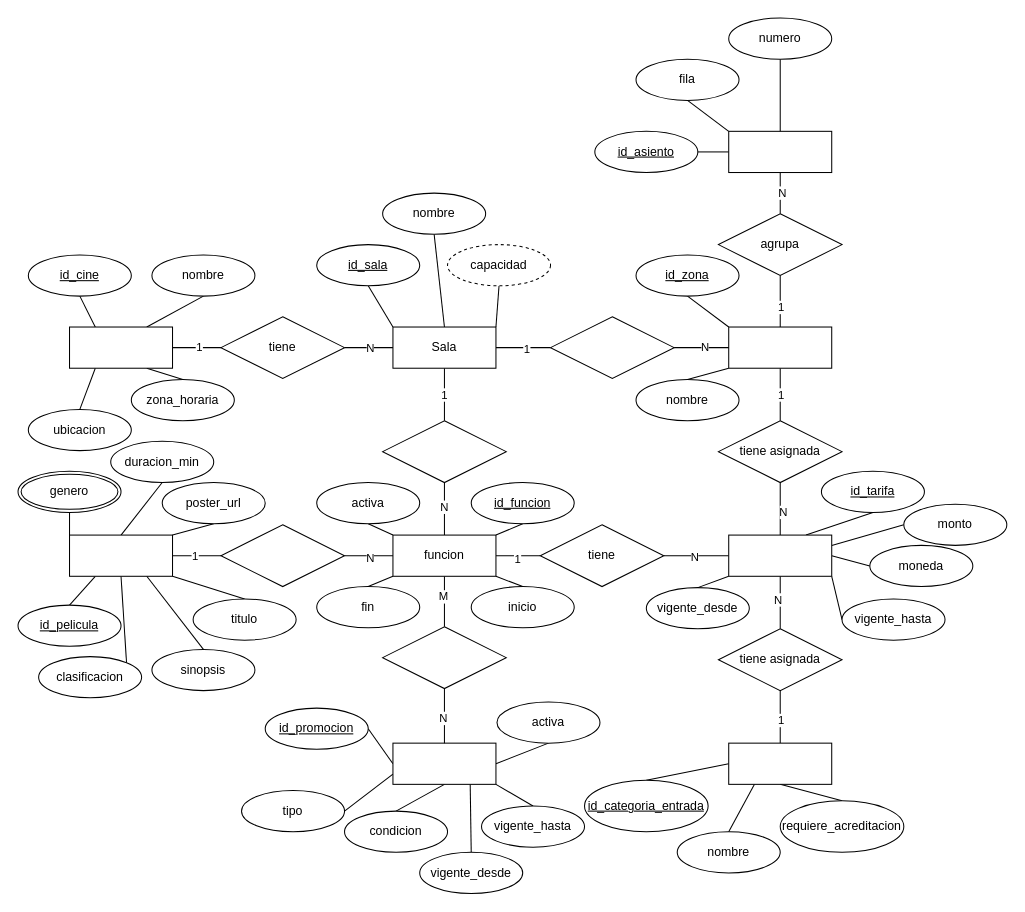
The diagram is 1025 pixels wide and 912 high, and some of its shapes have lost their labels. The centre of each missing label's shape, as x and y in pixels:
alberga: the point at 444,451
aplica: the point at 444,657
asiento: the point at 780,151
categoria_entrada: the point at 780,763
Cine: the point at 120,347
contiene: the point at 612,347
pelicula: the point at 120,555
promocion: the point at 444,763
se proyecta en: the point at 282,555
tarifa: the point at 780,555
Zona: the point at 780,347
